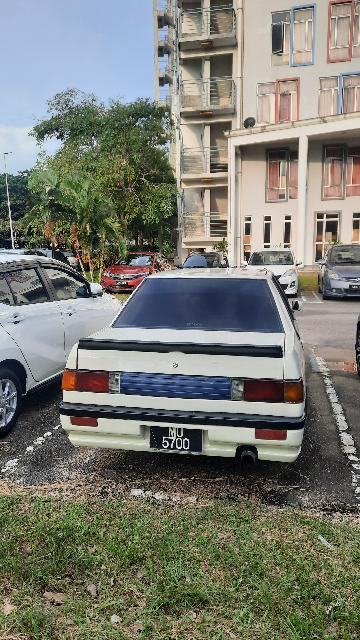License_Plate: (149, 419, 211, 459)
car: (64, 258, 309, 479), (1, 251, 131, 447), (318, 229, 360, 308), (238, 247, 304, 297), (105, 248, 165, 301), (182, 247, 226, 287)
